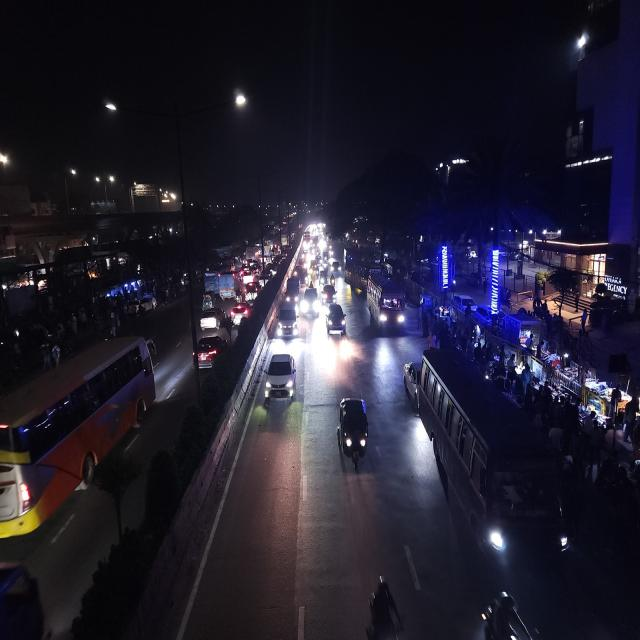bus: (0, 329, 156, 547), (424, 352, 574, 574), (364, 268, 407, 337), (344, 253, 366, 295)
car: (262, 346, 298, 412), (190, 331, 230, 372), (272, 300, 300, 340), (399, 361, 422, 405), (325, 300, 347, 338), (302, 284, 320, 321), (198, 305, 223, 331), (229, 301, 253, 328), (320, 284, 336, 305)
cng: (336, 394, 372, 472), (200, 292, 215, 310), (318, 270, 330, 287)
truck: (284, 274, 301, 307), (218, 272, 237, 300)
